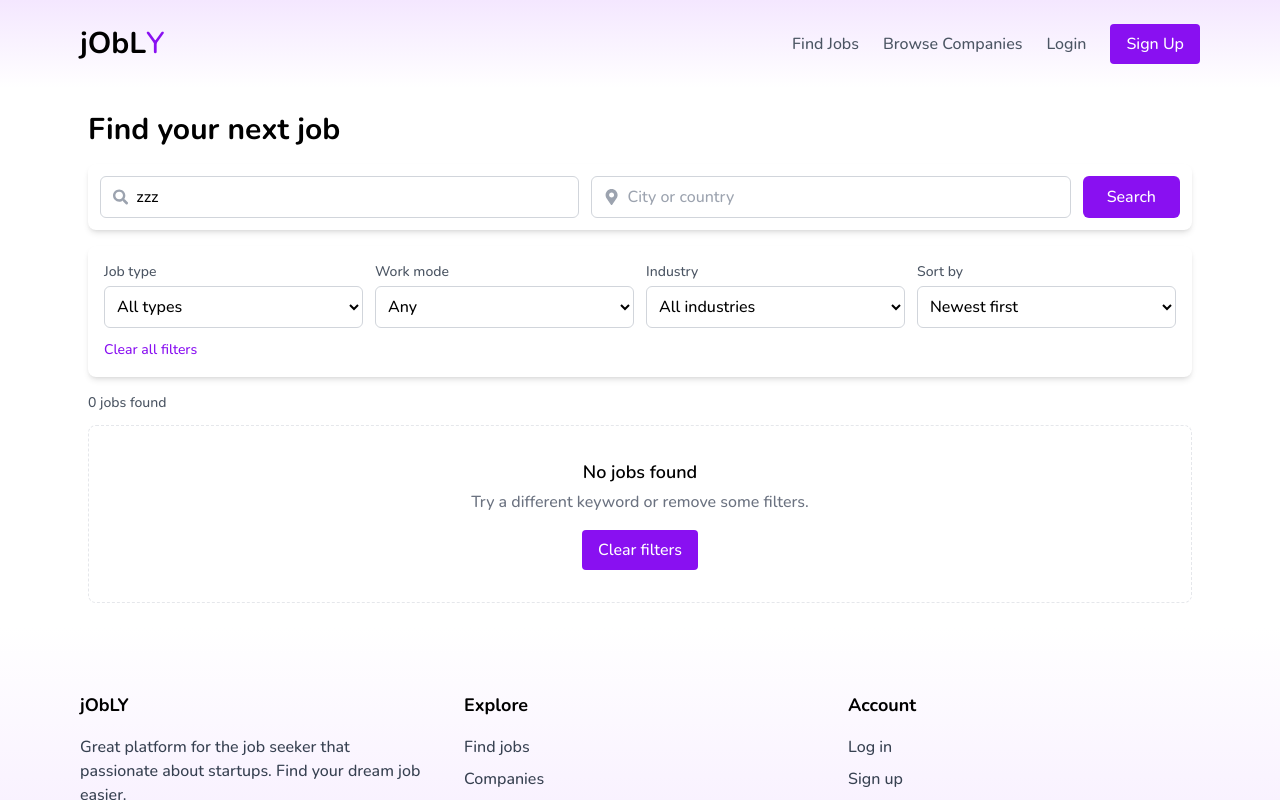
JobSearchPage › empty state offers to clear filters
The image size is (1280, 800).
Check: the text "No jobs found" is shown, box [583,460,697,484]
What coordinates should you click on to do the following:
click the button "Clear filters"
I would click on:
 (640, 550)
Its box is [582,530,698,570].
(page scrolled)
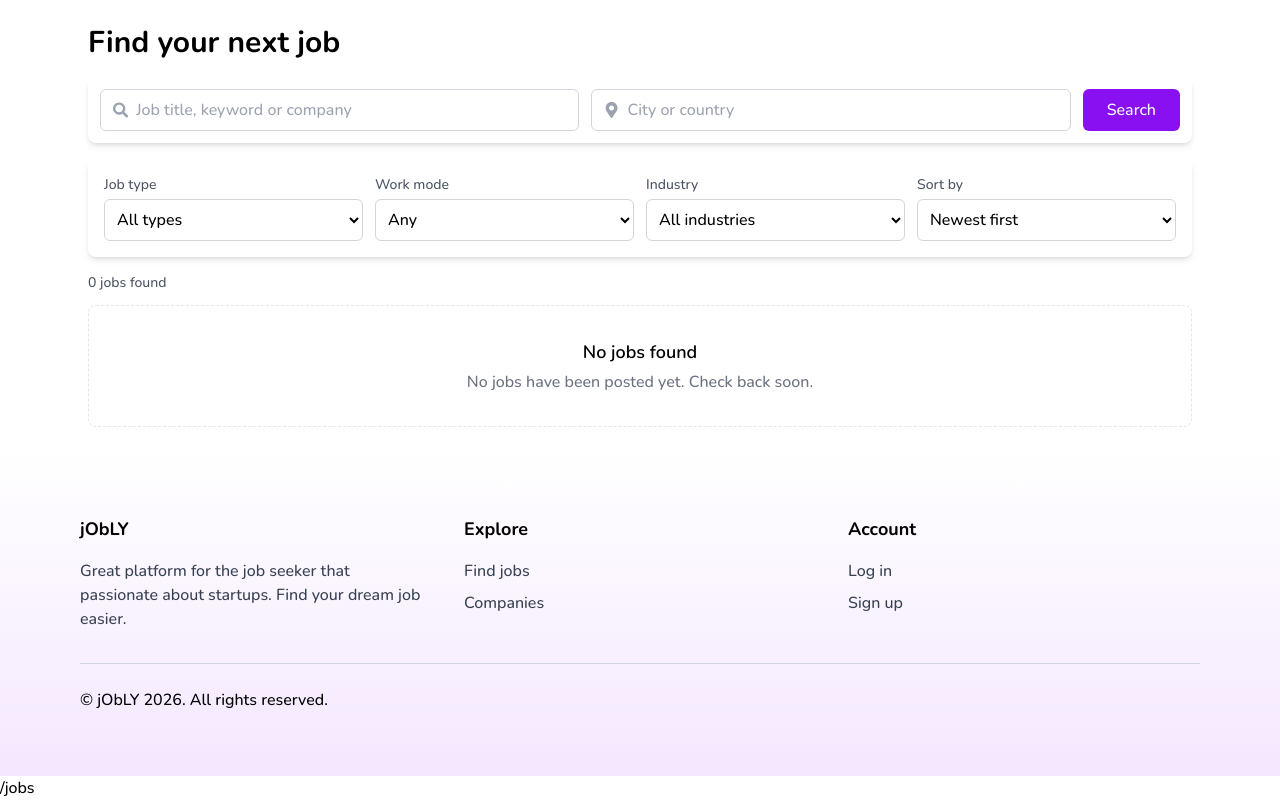
Check: the text with test id "loc" reads "/jobs", box [0,777,35,799]
